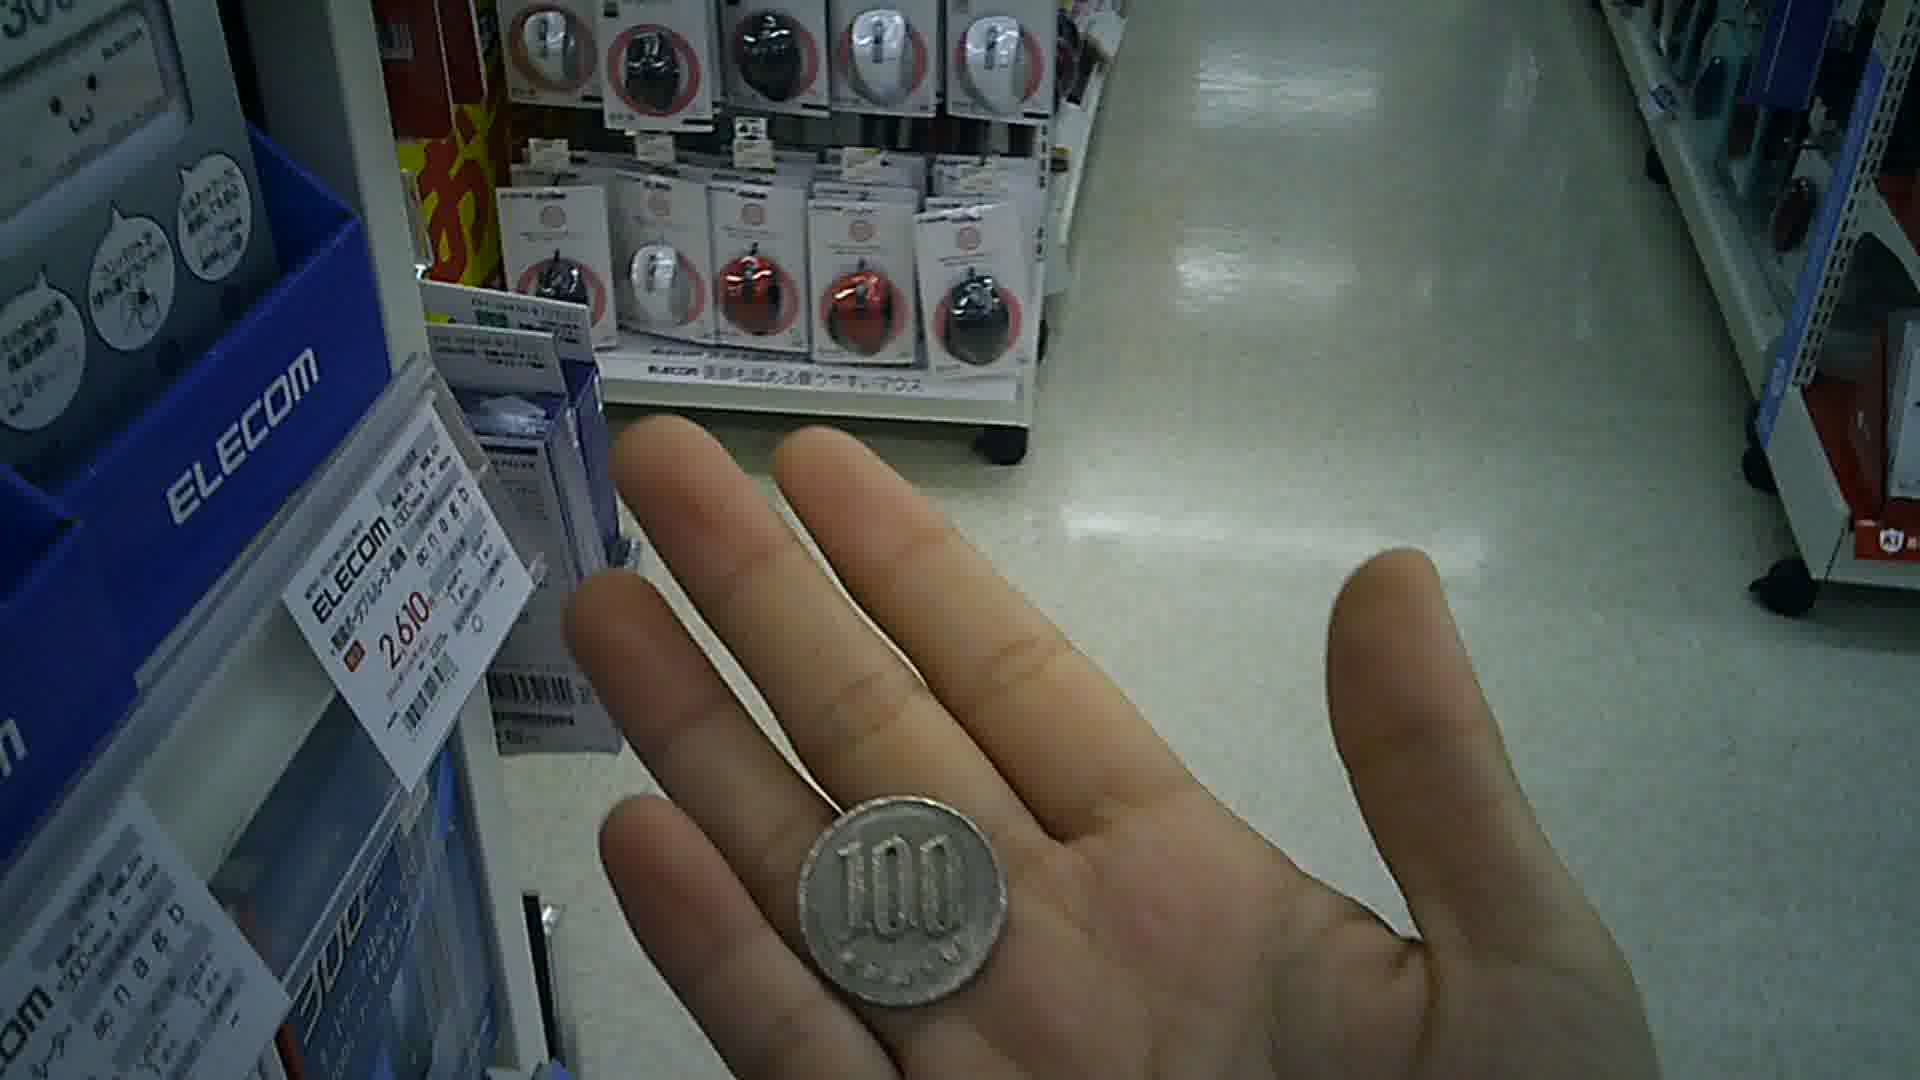100 Yen: (796, 789, 1015, 1010)
